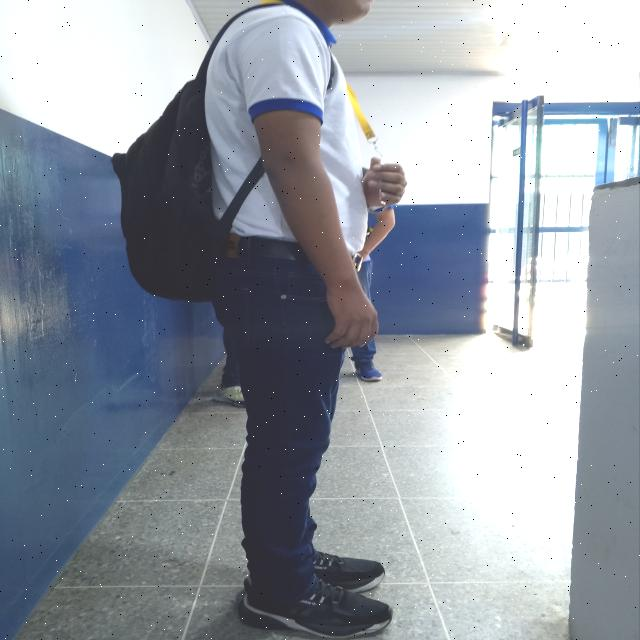pantalon_oscuro: (214, 257, 346, 603)
uniforme_superior: (203, 2, 370, 255)
